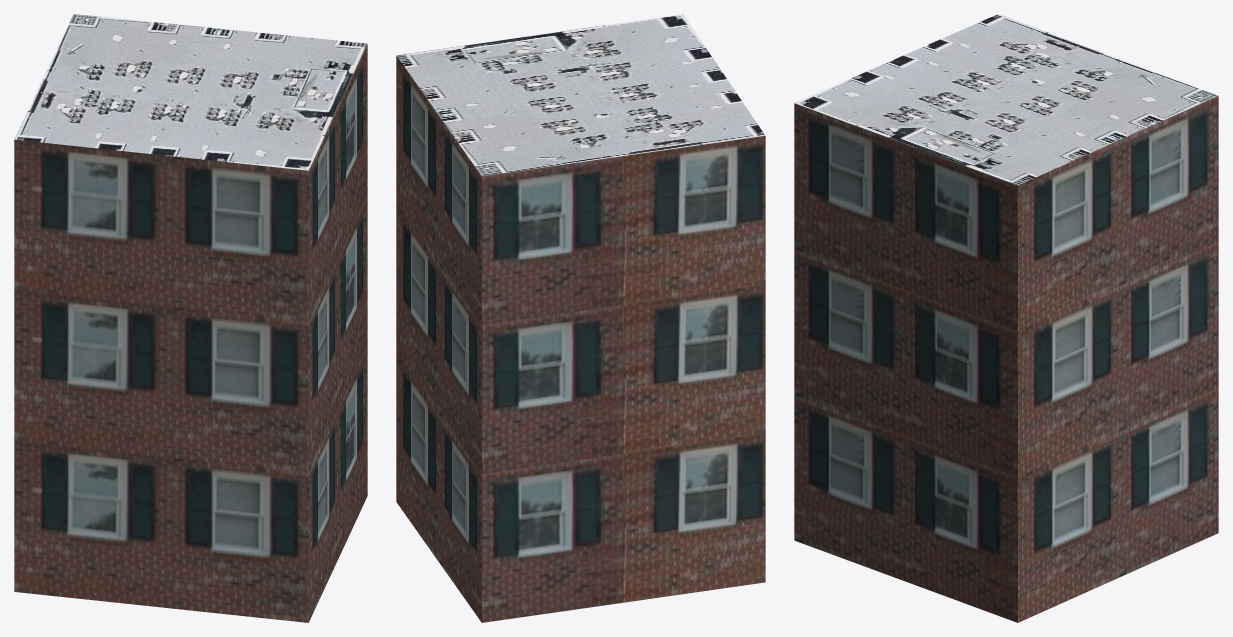
The model's file is ResTex__1870.fbx.
3 views of the same model, side by side, from view 1: azimuth 30°, elevation 25°; view 2: azimuth 150°, elevation 25°; view 3: azimuth 270°, elevation 25° (orthographic). The views are drawn at different scales.
Parts seen in each view (by area): view 1: CityEngineMaterial_14_m, CityEngineMaterial_m; view 2: CityEngineMaterial_14_m, CityEngineMaterial_m; view 3: CityEngineMaterial_14_m, CityEngineMaterial_m.
Boxes of the visible parts, x1,y1,x2,y2 form: CityEngineMaterial_14_m: [14, 44, 367, 622]; CityEngineMaterial_m: [14, 14, 367, 170]; CityEngineMaterial_14_m: [396, 56, 765, 622]; CityEngineMaterial_m: [396, 14, 765, 176]; CityEngineMaterial_14_m: [794, 96, 1218, 622]; CityEngineMaterial_m: [794, 14, 1218, 185].
Bounding box in the file's own units: 7.57 × 9 × 7.91.
2 materials, 2 textured.
